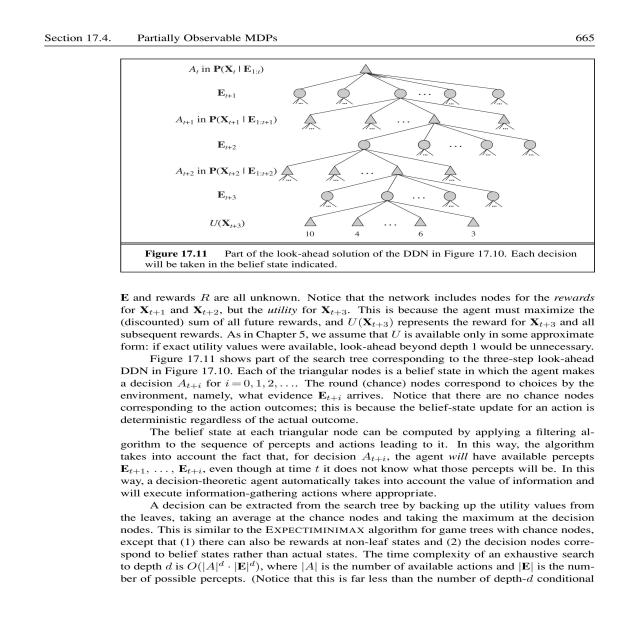diagram: (121, 55, 620, 276)
